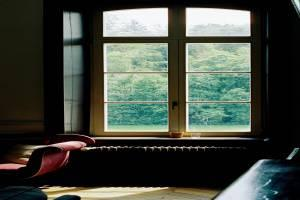window: (100, 3, 254, 134)
